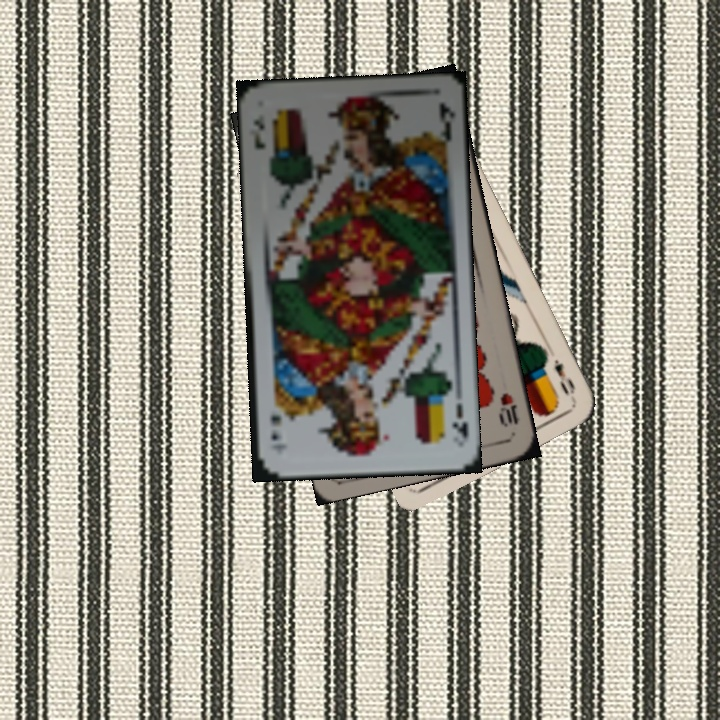EK: (448, 399, 471, 446), (246, 111, 268, 152)
EO: (549, 355, 578, 398)
H10: (495, 388, 521, 430)
